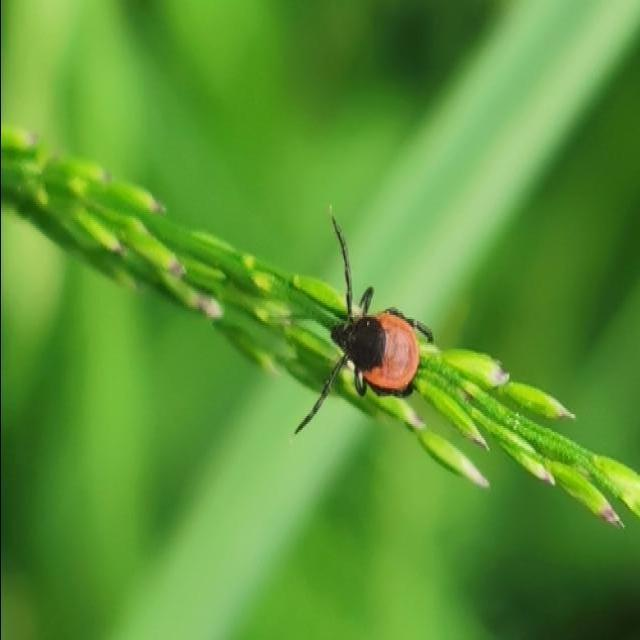Ixodes Ricinus-F: (294, 206, 433, 432)
